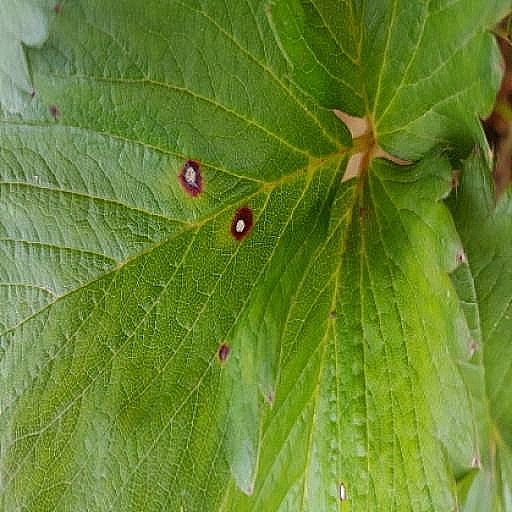Leaf Spot: (158, 0, 511, 511), (30, 0, 293, 370)
